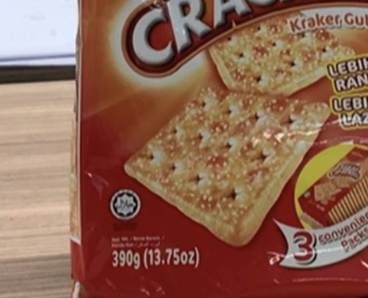halal: (114, 191, 135, 214)
